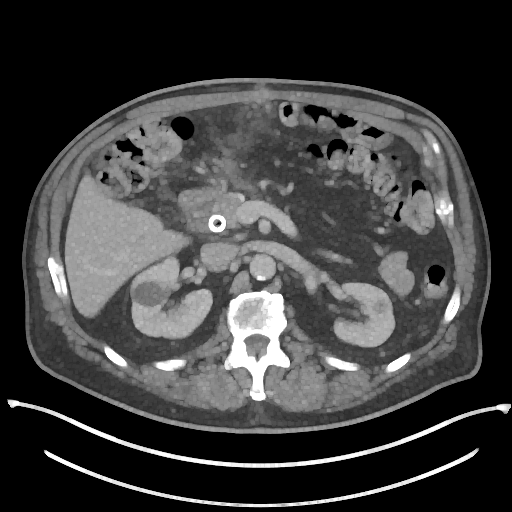Lesion: (129, 279, 168, 308)
